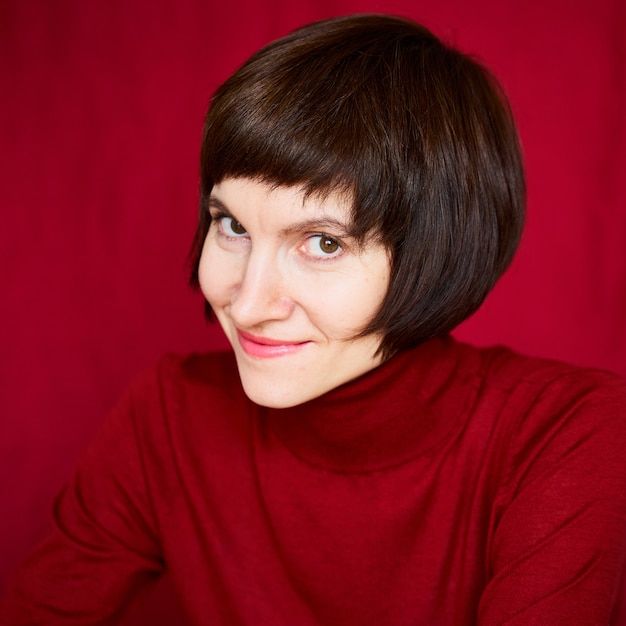teen: (183, 23, 485, 393)
